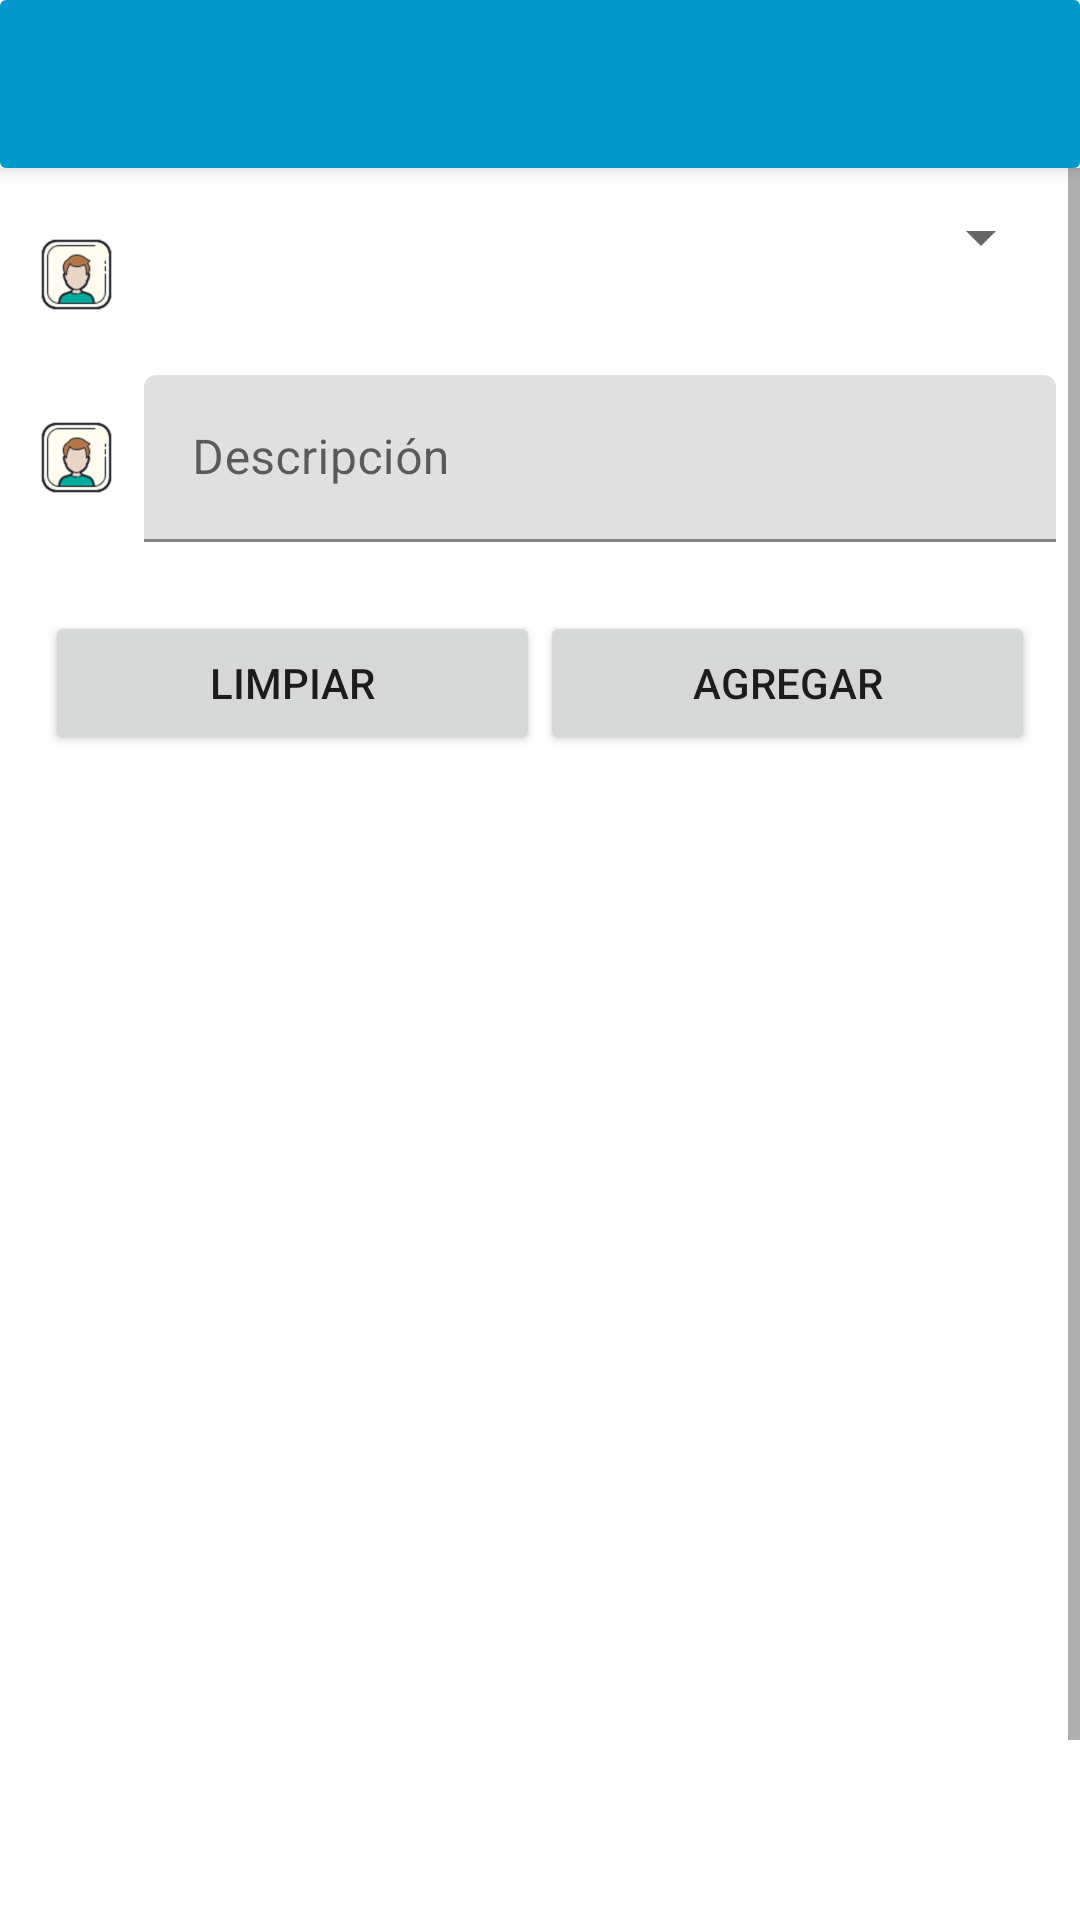

Icon bounding boxes for this 1080×1920 phone screenshot, format (x1, y1, x2, y2):
nombre: (41, 239, 112, 310), (41, 422, 112, 493)
